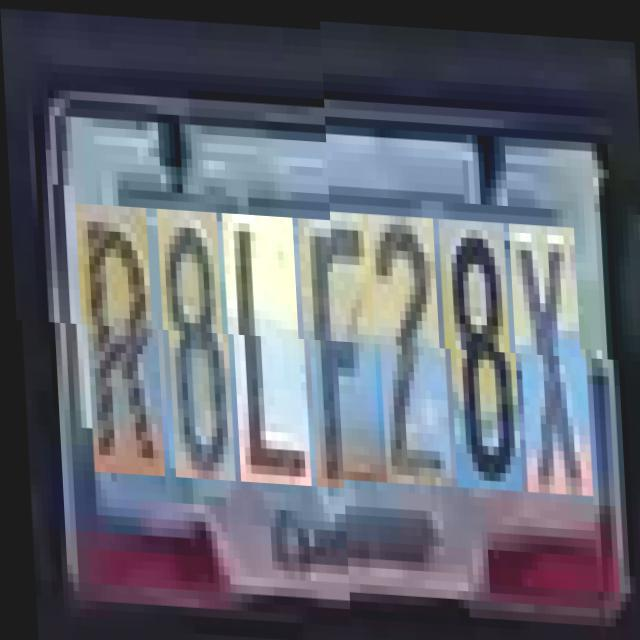2: (372, 218, 448, 490)
8: (442, 222, 518, 493), (160, 207, 230, 478)
F: (301, 214, 382, 486)
L: (225, 210, 306, 482)
R: (79, 202, 160, 474)
X: (512, 226, 588, 497)
